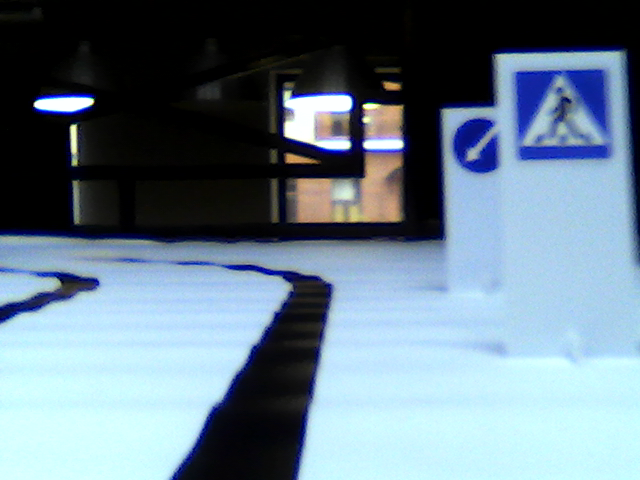pesh: (514, 66, 613, 167)
prep: (451, 115, 504, 172)
